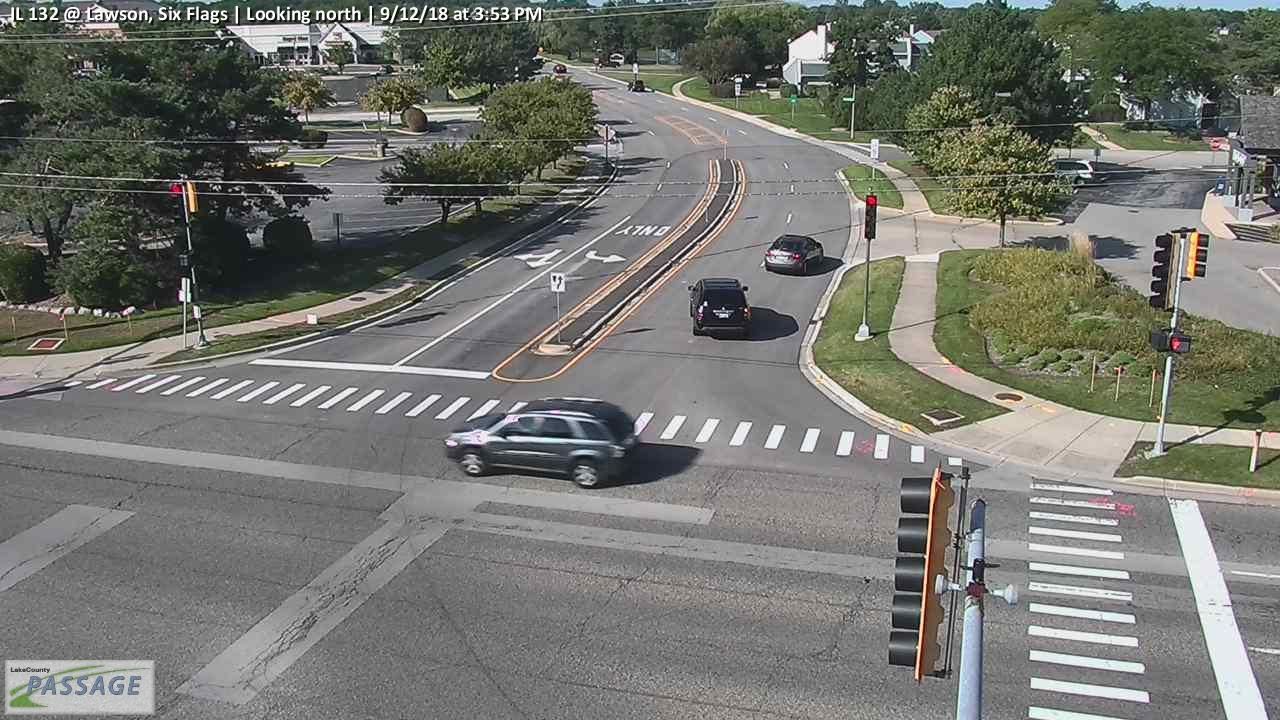SUV: (444, 398, 639, 487), (689, 278, 752, 337), (1038, 158, 1094, 187), (628, 81, 644, 93)
Sedan: (765, 235, 823, 274)
